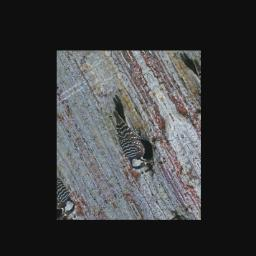Woodpecker: (96, 93, 156, 176)
